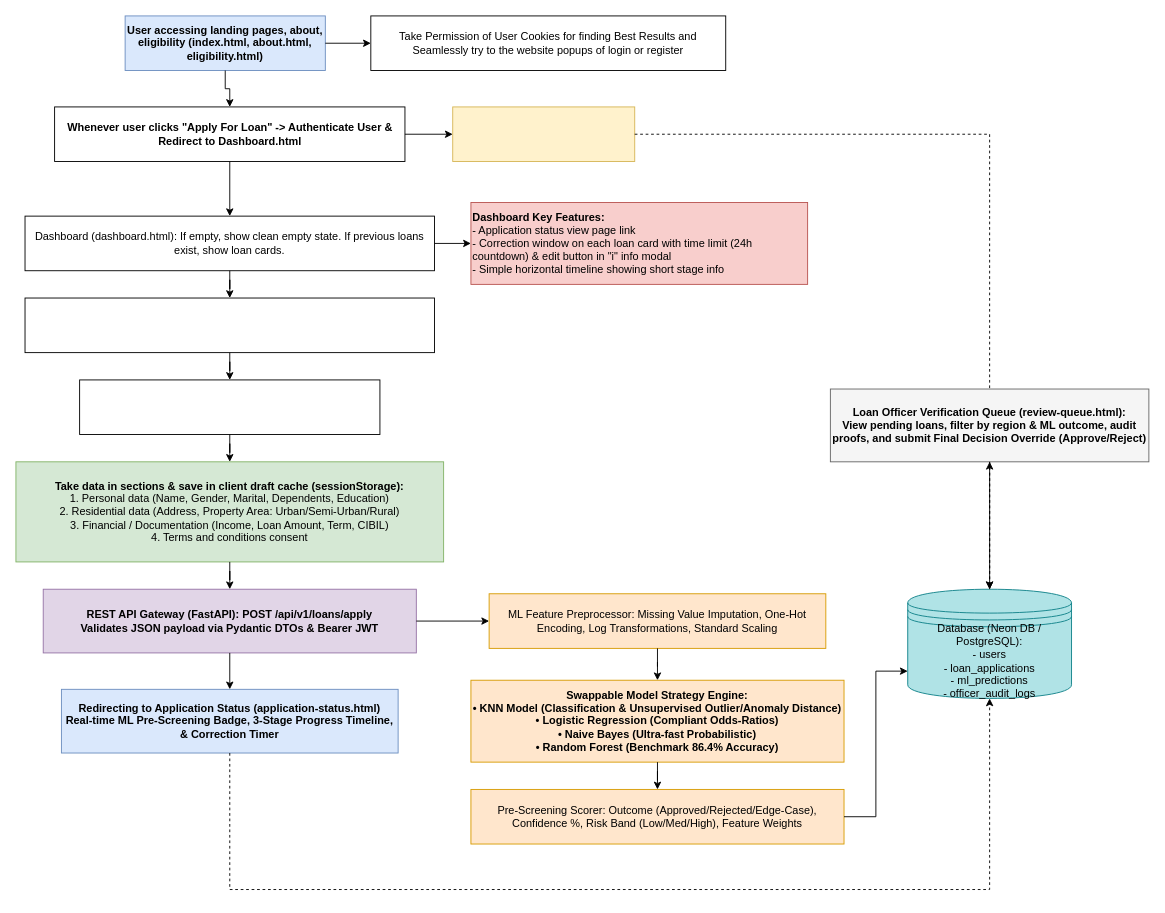
This 1165x913 diagram has some shape labels left out. The shapes that lost their labels are listed below. From the top down, each one's centre as x and y in pixels, then its label:
the point at 543,134: Authentication Data Store (JWT in localStorage/Cookie)
the point at 229,325: Applying for loan (Home | Personal)
the point at 229,407: Input fields included (required) on apply-loan.html
